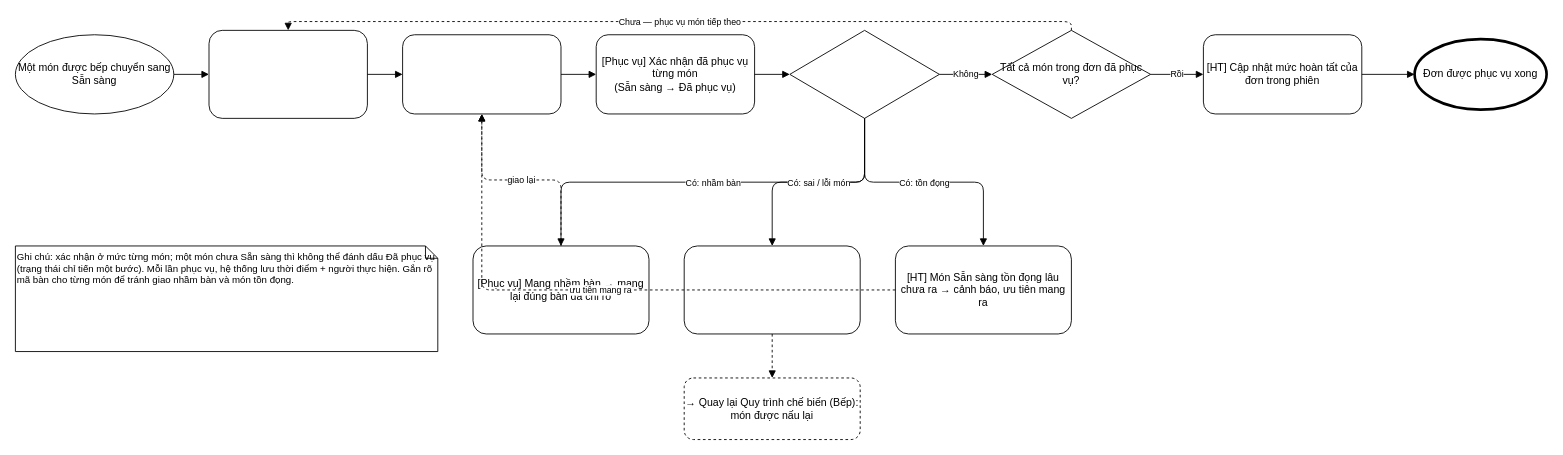
Image size: 1563x455. Some labels were removed from this diagram. The centre of each missing label's shape, as x and y in pixels:
"[Phục vụ] Khách báo sai món / món lỗi → gửi yêu cầu làm lại về Bếp" belongs at point 771,289.
"[Phục vụ] Kiểm món, mang đến đúng bàn đã chỉ rõ" belongs at point 481,74.
"[Phục vụ] Màn danh sách bàn báo món Sẵn sàng kèm bàn tương ứng" belongs at point 287,73.
"Phát sinh ngoại lệ khi phục vụ?" belongs at point 864,73.
